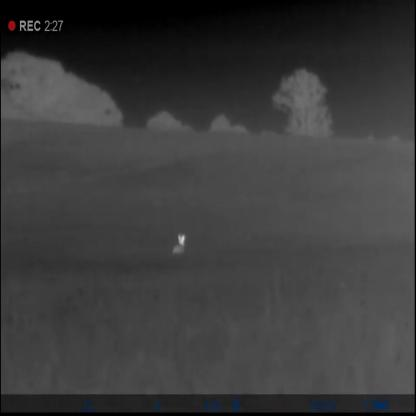rehkitze: (173, 234, 188, 256)
